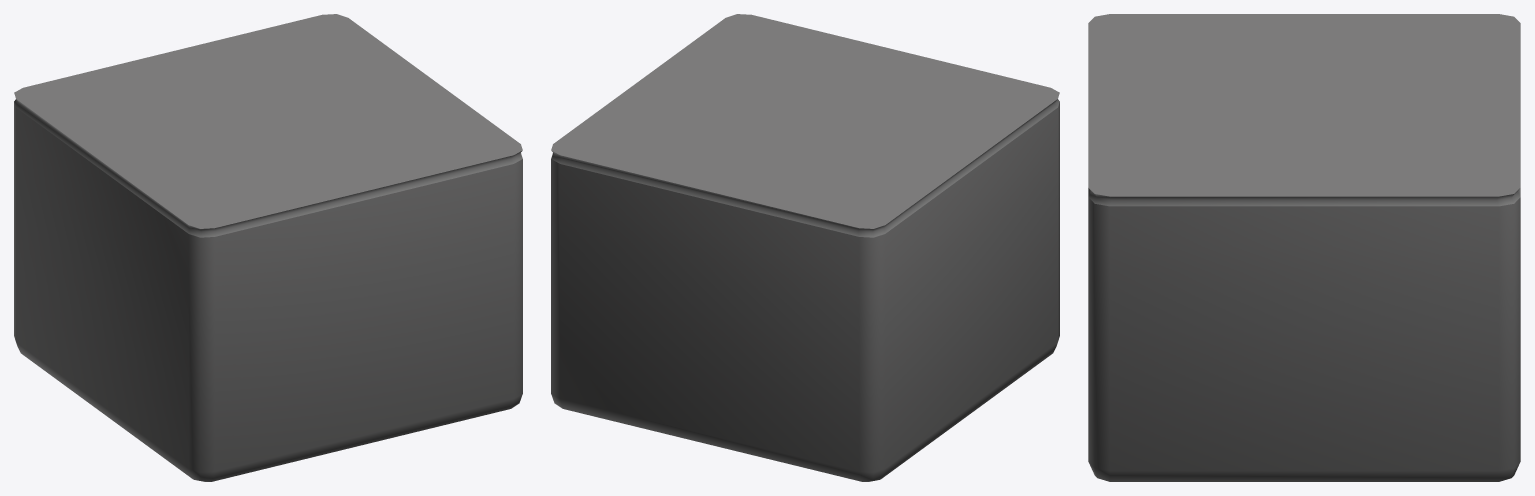
Rendered from 3D_Tile_Socket_Dungeon_04.glb.
The picture shows the model from 3 angles, left to right: view 1: azimuth 30°, elevation 25°; view 2: azimuth 150°, elevation 25°; view 3: azimuth 270°, elevation 25°; orthographic projection. The views are drawn at different scales.
Parts seen in each view (by area): view 1: 3D_Tile_Socket_Dungeon_04; view 2: 3D_Tile_Socket_Dungeon_04; view 3: 3D_Tile_Socket_Dungeon_04.
Boxes of the visible parts, <box> form: 3D_Tile_Socket_Dungeon_04: <box>14,14,522,481</box>; 3D_Tile_Socket_Dungeon_04: <box>551,14,1059,481</box>; 3D_Tile_Socket_Dungeon_04: <box>1088,14,1520,481</box>.
Size of the model in its own units: 2 by 1.5 by 2.
Materials: 1 (1 with a texture image).
